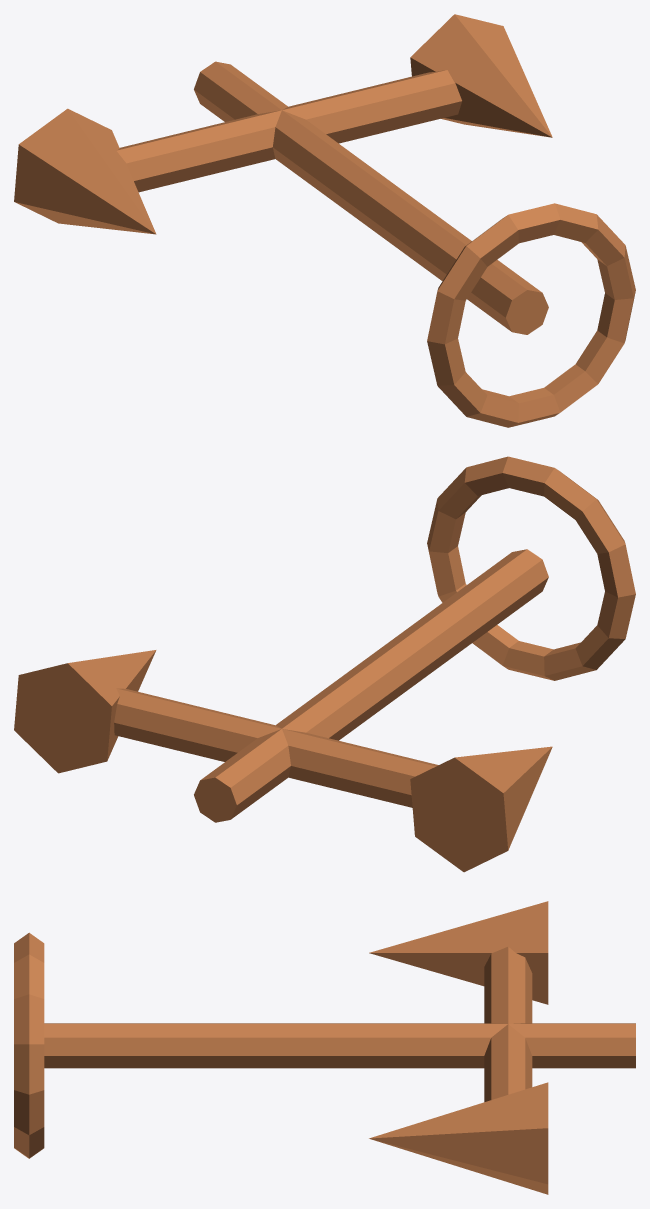
Rendered from underwater_ruined_anchor.glb.
3 views of the same model, one above another, from view 1: azimuth 30°, elevation 25°; view 2: azimuth 150°, elevation 25°; view 3: azimuth 270°, elevation 25° (orthographic). The views are drawn at different scales.
Parts seen in each view (by area): view 1: shaft, ring, crossbar, fluke_l, fluke_r; view 2: shaft, ring, crossbar, fluke_l, fluke_r; view 3: shaft, fluke_r, fluke_l, ring, crossbar.
Boxes of the visible parts, <box> form: shaft: <box>194,61,548,334</box>; ring: <box>427,203,635,427</box>; crossbar: <box>116,70,461,192</box>; fluke_l: <box>14,108,156,234</box>; fluke_r: <box>410,14,552,137</box>; shaft: <box>194,549,548,822</box>; ring: <box>427,456,635,680</box>; crossbar: <box>114,688,438,807</box>; fluke_l: <box>410,746,552,872</box>; fluke_r: <box>14,650,156,773</box>; shaft: <box>44,1023,635,1068</box>; fluke_r: <box>369,1082,548,1194</box>; fluke_l: <box>369,901,548,1004</box>; ring: <box>14,932,44,1158</box>; crossbar: <box>484,946,532,1101</box>.
Bounding box in the file's own units: 1.37 × 0.5655 × 1.56.
